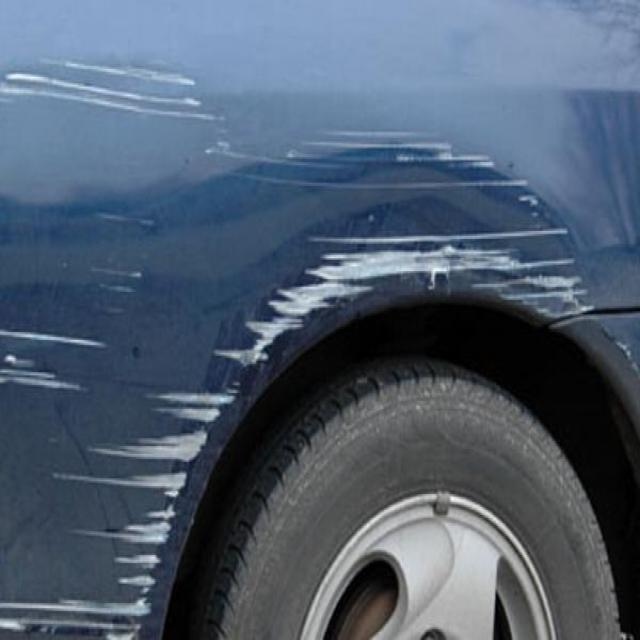scratch: (220, 126, 613, 378), (8, 316, 225, 638), (6, 48, 220, 132)
